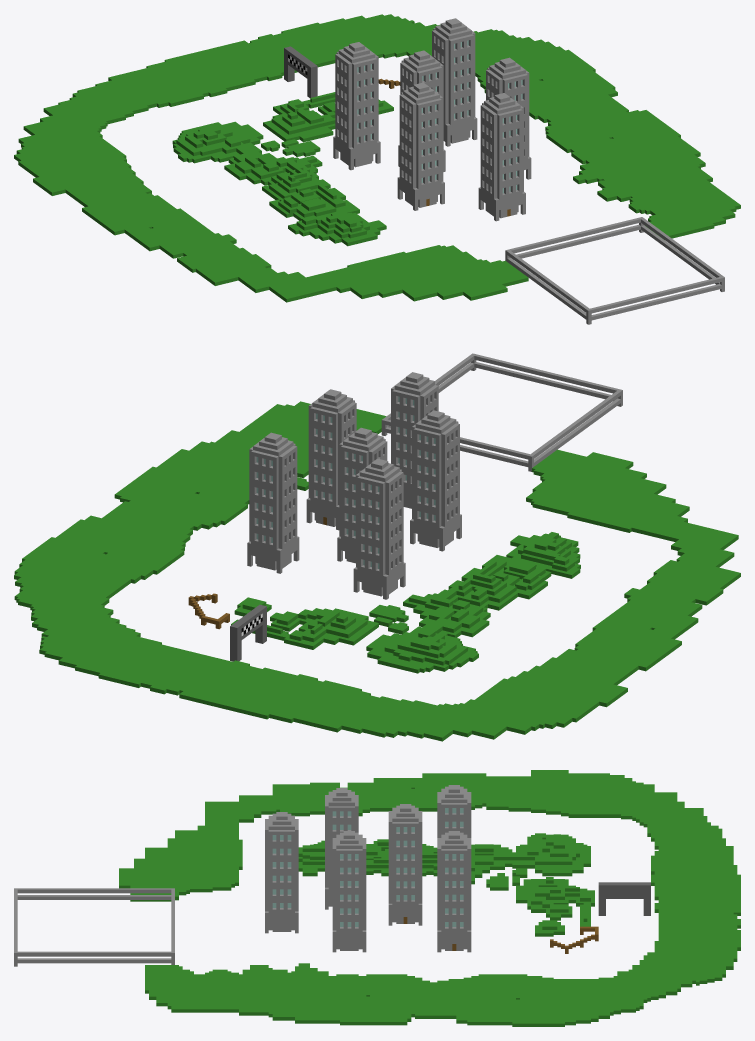
Rendered from Track03.obj.
The picture shows the model from 3 angles, top to bottom: view 1: azimuth 30°, elevation 25°; view 2: azimuth 150°, elevation 25°; view 3: azimuth 270°, elevation 25°; orthographic projection. The views are drawn at different scales.
Bounding box in the file's own units: 16 × 3.3 × 19.4.
1 material, 1 textured.
